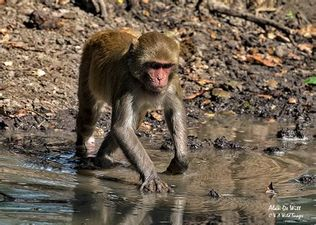monkey: (42, 13, 286, 203)
